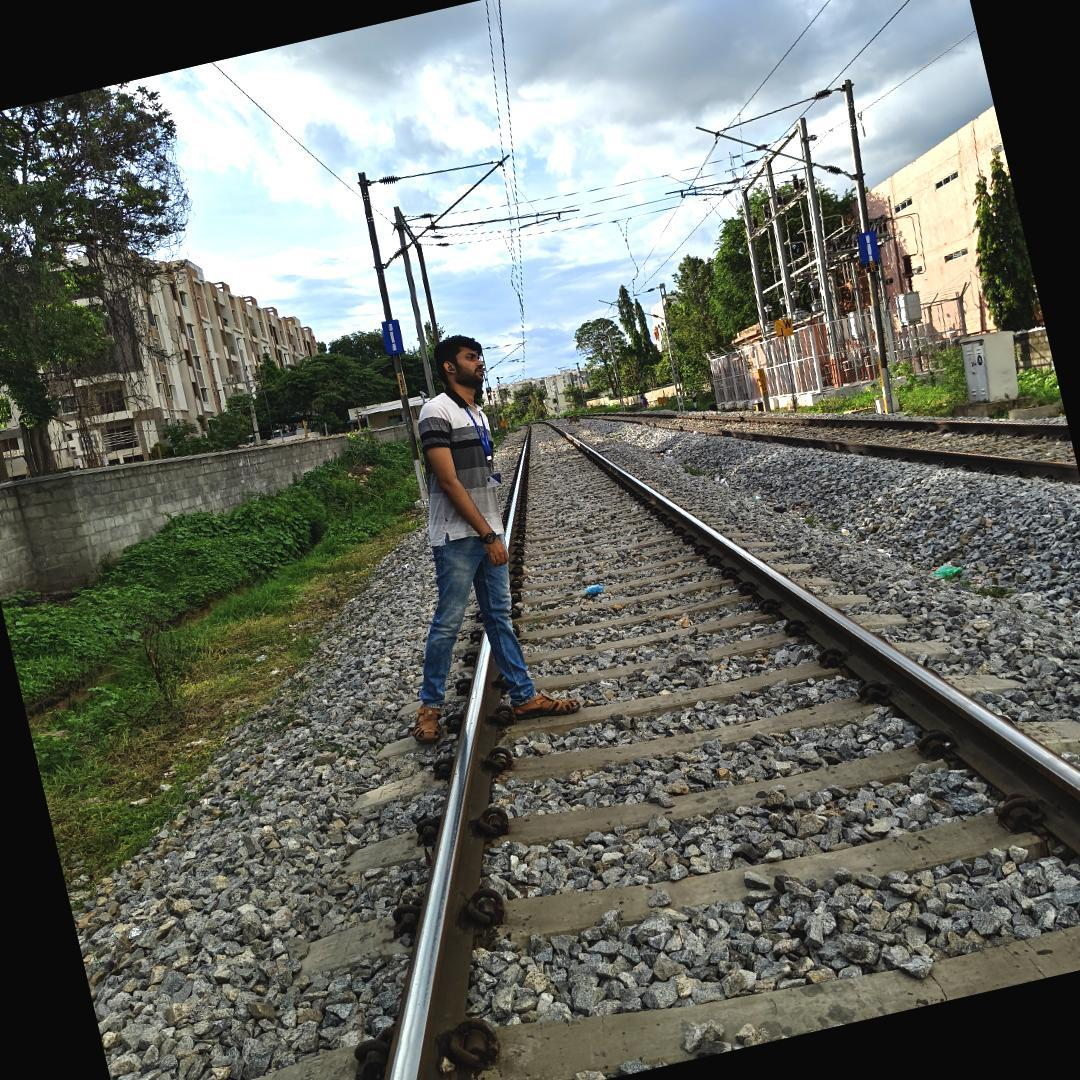standing: (381, 319, 583, 765)
